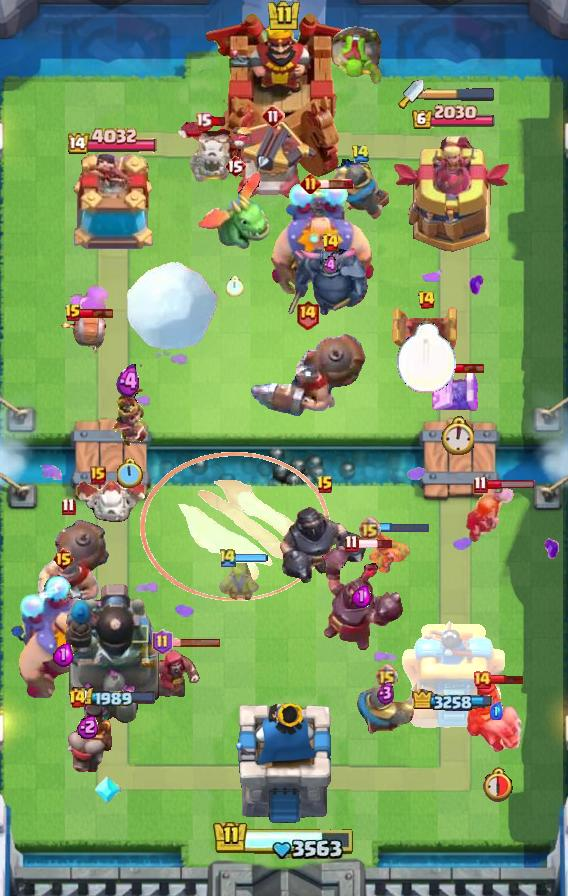bar: (391, 132, 515, 256)
bar-level: (331, 25, 385, 87)
bomber-evolution: (110, 385, 149, 447)
bowler: (147, 647, 201, 705)
clock: (212, 820, 356, 862)
electro-spirit: (116, 364, 142, 399), (77, 714, 100, 739), (53, 642, 75, 667), (352, 585, 372, 608), (377, 681, 395, 705), (323, 255, 337, 277), (489, 702, 502, 720)
electro-wizard: (195, 169, 275, 251)
elite-barbarian: (466, 678, 526, 754), (62, 700, 114, 774)
elixir: (396, 323, 456, 394), (440, 416, 474, 455), (479, 766, 512, 802), (115, 458, 143, 490), (226, 275, 244, 296)
emote: (379, 522, 431, 534), (170, 637, 222, 648), (484, 479, 535, 490), (358, 538, 395, 550), (318, 178, 354, 190), (79, 307, 115, 319), (450, 362, 486, 374), (489, 675, 525, 686), (235, 553, 269, 563), (209, 117, 227, 128)
firecracker: (331, 160, 389, 221), (355, 683, 417, 735)
giant-snowball: (362, 531, 410, 575)
goblin-brawler: (391, 304, 461, 354), (431, 364, 483, 414)
golemite: (288, 247, 372, 321)
hog-rider: (462, 484, 516, 544)
ice-wizard: (140, 452, 330, 601)
king-tower: (205, 11, 363, 181), (235, 703, 333, 826)
king-tower-bar: (424, 87, 496, 101)
knight: (58, 314, 108, 356)
lava-pup: (229, 120, 317, 202)
little-prince: (9, 574, 117, 700), (267, 181, 377, 297)
mini-pekka: (175, 122, 255, 184), (73, 475, 147, 523)
pad_2: (94, 774, 122, 806)
queen-tower: (399, 617, 507, 731), (66, 154, 162, 256)
royal-guardian: (315, 540, 407, 654), (279, 493, 371, 583)
selected: (68, 127, 160, 157), (412, 104, 497, 131), (413, 689, 496, 714), (71, 686, 156, 710)
text: (295, 298, 320, 329), (261, 104, 285, 128), (52, 547, 75, 571), (151, 629, 172, 655), (358, 517, 381, 540), (374, 664, 397, 687), (224, 154, 246, 178), (300, 173, 321, 195), (218, 547, 238, 569), (320, 233, 340, 253), (416, 290, 436, 310), (472, 670, 492, 690), (68, 689, 88, 709), (64, 303, 82, 323), (316, 475, 334, 495), (195, 113, 213, 132), (351, 145, 370, 163), (90, 466, 106, 484), (472, 475, 487, 494), (60, 497, 75, 515), (344, 535, 359, 553)
tower-bar: (63, 579, 165, 731)
wall-breaker: (125, 260, 219, 352)
wizard: (247, 330, 367, 420), (24, 518, 112, 626)
zap: (219, 563, 263, 605)
